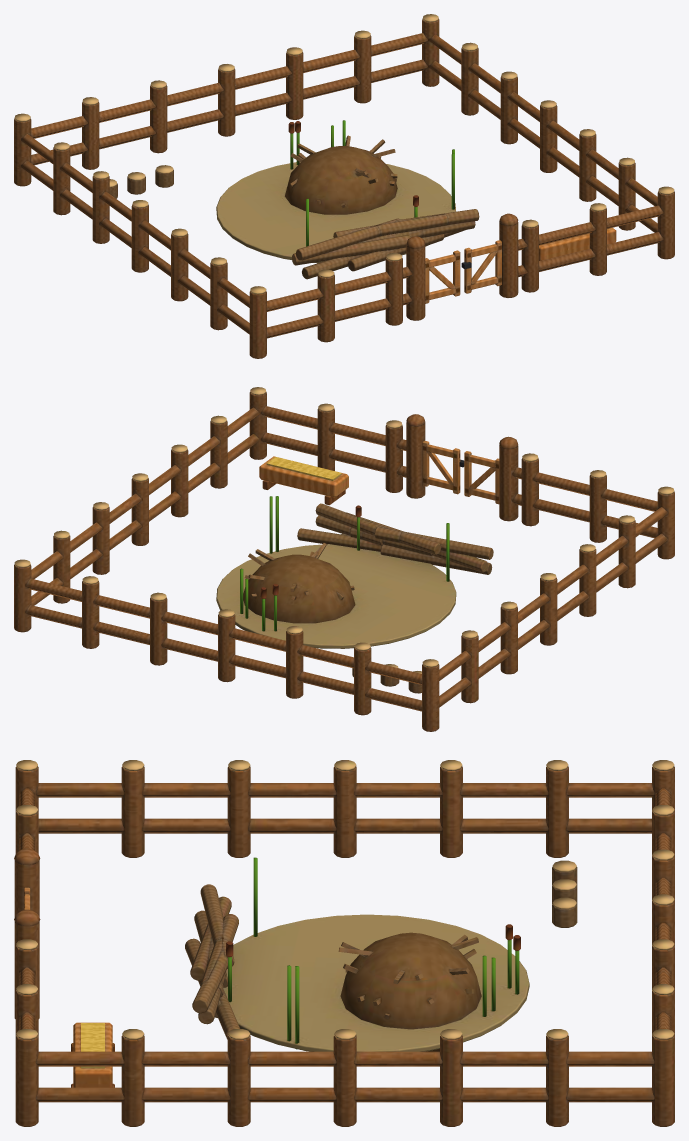
Rendered from beaver_pond.glb.
3 views of the same model, one above another, from view 1: azimuth 30°, elevation 25°; view 2: azimuth 150°, elevation 25°; view 3: azimuth 270°, elevation 25° (orthographic). The views are drawn at different scales.
Visible parts, largest first — view 1: beaver_pond, gate1, gate0; view 2: beaver_pond, gate1, gate0; view 3: beaver_pond.
Boxes of the visible parts, x1=… form: beaver_pond: x1=14, y1=14, x2=674, y2=358; gate1: x1=461, y1=240, x2=501, y2=293; gate0: x1=425, y1=250, x2=460, y2=303; beaver_pond: x1=14, y1=387, x2=674, y2=731; gate1: x1=422, y1=440, x2=464, y2=494; gate0: x1=464, y1=451, x2=499, y2=504; beaver_pond: x1=14, y1=760, x2=674, y2=1126.
Size of the model in its own units: 3 by 0.81 by 3.01.
Materials: 1 (1 with a texture image).
